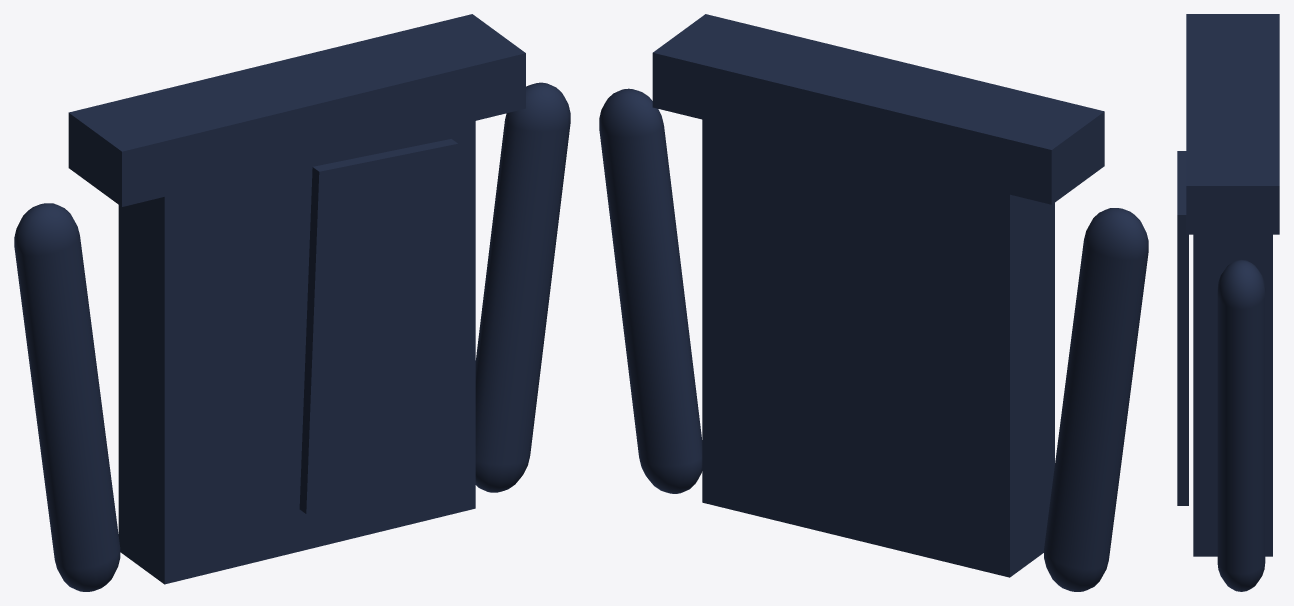
File: double-breasted-six-button.glb
3 renders of one model, left to right at view 1: azimuth 30°, elevation 25°; view 2: azimuth 150°, elevation 25°; view 3: azimuth 270°, elevation 25°, orthographic. The views are drawn at different scales.
Parts seen in each view (by area): view 1: Jacket_DoubleBreastedSixButton, Jacket_Overlap_DoubleBreastedSixButton, Shoulder_DoubleBreastedSixButton, Sleeve_Right_DoubleBreastedSixButton, Sleeve_Left_DoubleBreastedSixButton; view 2: Jacket_DoubleBreastedSixButton, Shoulder_DoubleBreastedSixButton, Sleeve_Right_DoubleBreastedSixButton, Sleeve_Left_DoubleBreastedSixButton; view 3: Shoulder_DoubleBreastedSixButton, Sleeve_Right_DoubleBreastedSixButton, Jacket_DoubleBreastedSixButton, Jacket_Overlap_DoubleBreastedSixButton.
Part boxes in pixels (left/top/right/bottom): Jacket_DoubleBreastedSixButton: left=118, top=121, right=475, bottom=584; Jacket_Overlap_DoubleBreastedSixButton: left=299, top=139, right=458, bottom=513; Shoulder_DoubleBreastedSixButton: left=68, top=14, right=525, bottom=206; Sleeve_Right_DoubleBreastedSixButton: left=475, top=82, right=570, bottom=492; Sleeve_Left_DoubleBreastedSixButton: left=14, top=203, right=120, bottom=591; Jacket_DoubleBreastedSixButton: left=702, top=119, right=1054, bottom=577; Shoulder_DoubleBreastedSixButton: left=652, top=14, right=1104, bottom=204; Sleeve_Right_DoubleBreastedSixButton: left=599, top=88, right=702, bottom=493; Sleeve_Left_DoubleBreastedSixButton: left=1044, top=208, right=1148, bottom=591; Shoulder_DoubleBreastedSixButton: left=1186, top=14, right=1279, bottom=234; Sleeve_Right_DoubleBreastedSixButton: left=1217, top=260, right=1265, bottom=591; Jacket_DoubleBreastedSixButton: left=1193, top=234, right=1272, bottom=556; Jacket_Overlap_DoubleBreastedSixButton: left=1177, top=151, right=1188, bottom=505.
Bounding box in the file's own units: 1.66 × 1.33 × 0.3075.
